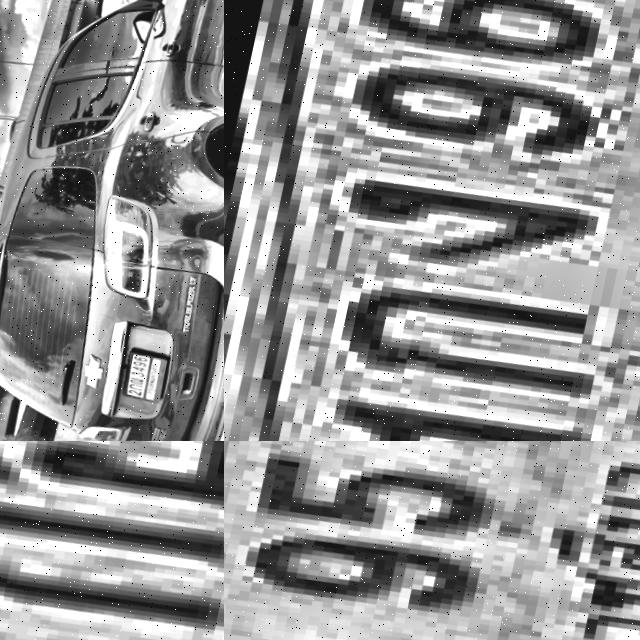license-plate: (224, 0, 640, 441), (224, 441, 640, 640), (0, 441, 224, 640), (119, 352, 170, 411)
